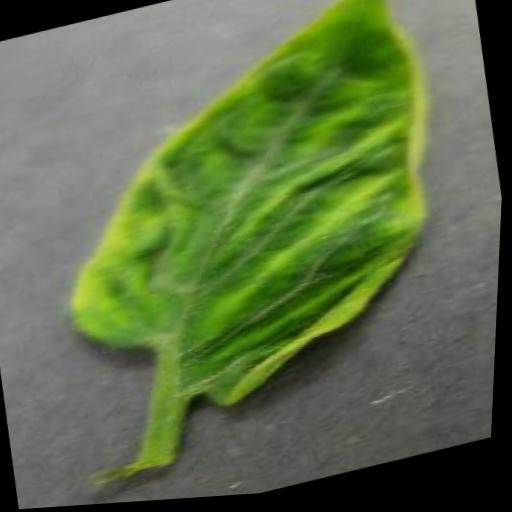Yellow Leaf Curl Virus: (21, 0, 475, 444)
